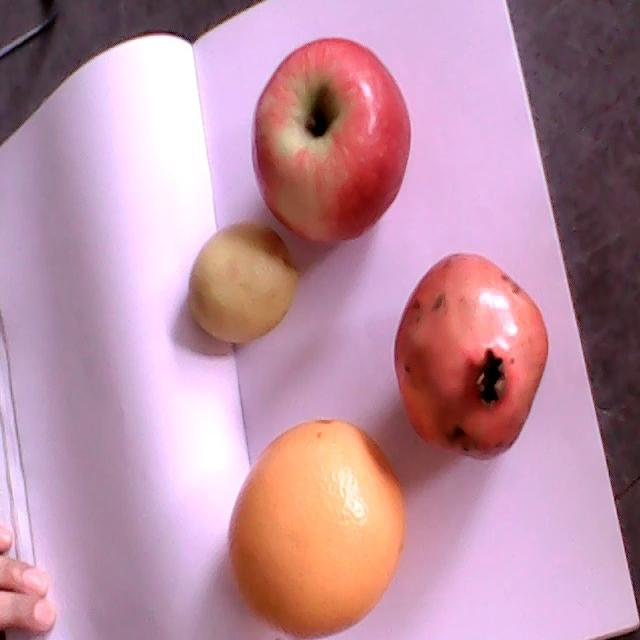apple: (250, 37, 411, 245)
lemon: (187, 226, 300, 342)
orange: (228, 421, 408, 638)
pomegranate: (395, 253, 552, 463)
